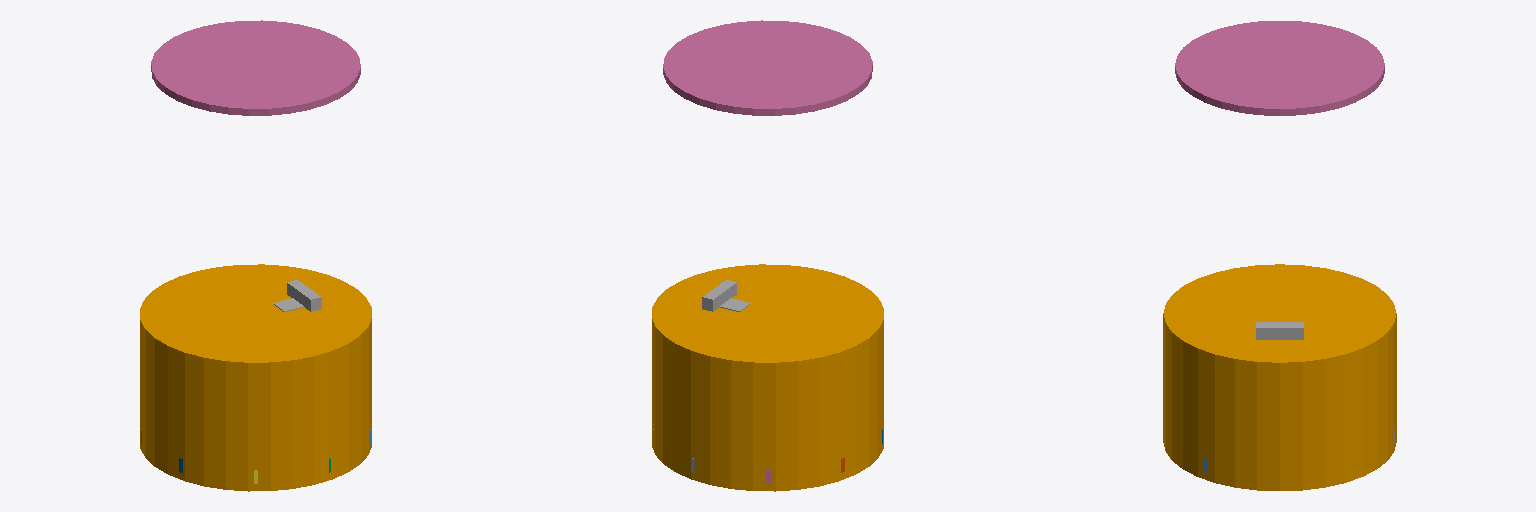
--- What the picture shows (computed from the rendered views, not written in the file) ---
The picture shows the robot from 3 angles, left to right: view 1: azimuth 30°, elevation 25°; view 2: azimuth 150°, elevation 25°; view 3: azimuth 270°, elevation 25°; orthographic projection.
Robot: [local-path]/Desktop/Robotino3.urdf — 28 links, 27 joints (3 continuous, 24 fixed); root link base_link; default pose: every joint at zero.
Visible links, largest first — view 1: base_link, Platform for Robotino 3, Webcam for Robotino 3_solid; view 2: base_link, Platform for Robotino 3, Webcam for Robotino 3_solid; view 3: base_link, Platform for Robotino 3, Webcam for Robotino 3_solid.
Link boxes in pixels (<box>): base_link: <box>140,264,371,491</box>; Platform for Robotino 3: <box>151,20,360,115</box>; Webcam for Robotino 3_solid: <box>273,280,321,311</box>; base_link: <box>652,264,883,491</box>; Platform for Robotino 3: <box>663,20,872,115</box>; Webcam for Robotino 3_solid: <box>702,280,750,311</box>; base_link: <box>1163,264,1396,490</box>; Platform for Robotino 3: <box>1175,21,1384,115</box>; Webcam for Robotino 3_solid: <box>1256,322,1303,339</box>.
Bounding box of the posed robot: 0.4532 × 0.4532 × 0.8308 m (x, y, z).
Geometry: primitives only (box / cylinder / sphere), no mesh files.

The robot description file, URDF, robot "[local-path]/Desktop/Robotino3.urdf":
<?xml version="1.0"?>
<robot name="[local-path]/Desktop/Robotino3.urdf" xmlns:xacro="http://ros.org/wiki/xacro">
  <link name="base_link">
    <visual>
      <origin xyz="0 0 0.153" rpy="0 0 0"/>
      <geometry>
        <cylinder radius="0.2266" length="0.276"/>
      </geometry>
    </visual>
    <collision>
      <origin xyz="0 0 0.153" rpy="0 0 0"/>
      <geometry>
        <cylinder radius="0.2266" length="0.276"/>
      </geometry>
    </collision>
  </link>
  <link name="cap screw(6)">
    <visual>
      <origin xyz="0.005 0 0" rpy="3.141593 1.570793 3.141593"/>
      <geometry>
        <cylinder radius="0.0018" length="0.01"/>
      </geometry>
    </visual>
    <collision>
      <origin xyz="0.005 0 0" rpy="3.141593 1.570793 3.141593"/>
      <geometry>
        <cylinder radius="0.0018" length="0.01"/>
      </geometry>
    </collision>
    <visual>
      <origin xyz="-0.0018 0 0" rpy="3.141593 1.570793 3.141593"/>
      <geometry>
        <cylinder radius="0.003" length="0.0036"/>
      </geometry>
    </visual>
    <collision>
      <origin xyz="-0.0018 0 0" rpy="3.141593 1.570793 3.141593"/>
      <geometry>
        <cylinder radius="0.003" length="0.0036"/>
      </geometry>
    </collision>
  </link>
  <joint name="base_link_cap screw(6)_joint" type="fixed">
    <parent link="base_link"/>
    <child link="cap screw(6)"/>
    <origin xyz="0.1097 0.189 0.092" rpy="0.000008 -0.000002 -2.094393"/>
  </joint>
  <link name="cap screw(5)">
    <visual>
      <origin xyz="0.005 0 0" rpy="3.141593 1.570793 3.141593"/>
      <geometry>
        <cylinder radius="0.0018" length="0.01"/>
      </geometry>
    </visual>
    <collision>
      <origin xyz="0.005 0 0" rpy="3.141593 1.570793 3.141593"/>
      <geometry>
        <cylinder radius="0.0018" length="0.01"/>
      </geometry>
    </collision>
    <visual>
      <origin xyz="-0.0018 0 0" rpy="3.141593 1.570793 3.141593"/>
      <geometry>
        <cylinder radius="0.003" length="0.0036"/>
      </geometry>
    </visual>
    <collision>
      <origin xyz="-0.0018 0 0" rpy="3.141593 1.570793 3.141593"/>
      <geometry>
        <cylinder radius="0.003" length="0.0036"/>
      </geometry>
    </collision>
  </link>
  <joint name="base_link_cap screw(5)_joint" type="fixed">
    <parent link="base_link"/>
    <child link="cap screw(5)"/>
    <origin xyz="0.1097 -0.189 0.092" rpy="0.000002 0.000003 2.094393"/>
  </joint>
  <link name="cap screw(4)">
    <visual>
      <origin xyz="0.005 0 0" rpy="3.141593 1.570793 3.141593"/>
      <geometry>
        <cylinder radius="0.0018" length="0.01"/>
      </geometry>
    </visual>
    <collision>
      <origin xyz="0.005 0 0" rpy="3.141593 1.570793 3.141593"/>
      <geometry>
        <cylinder radius="0.0018" length="0.01"/>
      </geometry>
    </collision>
    <visual>
      <origin xyz="-0.0018 0 0" rpy="3.141593 1.570793 3.141593"/>
      <geometry>
        <cylinder radius="0.003" length="0.0036"/>
      </geometry>
    </visual>
    <collision>
      <origin xyz="-0.0018 0 0" rpy="3.141593 1.570793 3.141593"/>
      <geometry>
        <cylinder radius="0.003" length="0.0036"/>
      </geometry>
    </collision>
  </link>
  <joint name="base_link_cap screw(4)_joint" type="fixed">
    <parent link="base_link"/>
    <child link="cap screw(4)"/>
    <origin xyz="-0.0372 -0.207 0.213" rpy="0 0 1.570796"/>
  </joint>
  <link name="cap screw(3)">
    <visual>
      <origin xyz="0.005 0 0" rpy="3.141593 1.570793 3.141593"/>
      <geometry>
        <cylinder radius="0.0018" length="0.01"/>
      </geometry>
    </visual>
    <collision>
      <origin xyz="0.005 0 0" rpy="3.141593 1.570793 3.141593"/>
      <geometry>
        <cylinder radius="0.0018" length="0.01"/>
      </geometry>
    </collision>
    <visual>
      <origin xyz="-0.0018 0 0" rpy="3.141593 1.570793 3.141593"/>
      <geometry>
        <cylinder radius="0.003" length="0.0036"/>
      </geometry>
    </visual>
    <collision>
      <origin xyz="-0.0018 0 0" rpy="3.141593 1.570793 3.141593"/>
      <geometry>
        <cylinder radius="0.003" length="0.0036"/>
      </geometry>
    </collision>
  </link>
  <joint name="base_link_cap screw(3)_joint" type="fixed">
    <parent link="base_link"/>
    <child link="cap screw(3)"/>
    <origin xyz="-0.0372 0.207 0.213" rpy="3.141593 0.000008 -1.570796"/>
  </joint>
  <link name="cap screw(2)">
    <visual>
      <origin xyz="0.005 0 0" rpy="3.141593 1.570793 3.141593"/>
      <geometry>
        <cylinder radius="0.0018" length="0.01"/>
      </geometry>
    </visual>
    <collision>
      <origin xyz="0.005 0 0" rpy="3.141593 1.570793 3.141593"/>
      <geometry>
        <cylinder radius="0.0018" length="0.01"/>
      </geometry>
    </collision>
    <visual>
      <origin xyz="-0.0018 0 0" rpy="3.141593 1.570793 3.141593"/>
      <geometry>
        <cylinder radius="0.003" length="0.0036"/>
      </geometry>
    </visual>
    <collision>
      <origin xyz="-0.0018 0 0" rpy="3.141593 1.570793 3.141593"/>
      <geometry>
        <cylinder radius="0.003" length="0.0036"/>
      </geometry>
    </collision>
  </link>
  <joint name="base_link_cap screw(2)_joint" type="fixed">
    <parent link="base_link"/>
    <child link="cap screw(2)"/>
    <origin xyz="-0.2183 0 0.092" rpy="1.570796 0.000003 -0.000003"/>
  </joint>
  <link name="cap screw(1)">
    <visual>
      <origin xyz="0.005 0 0" rpy="3.141593 1.570793 3.141593"/>
      <geometry>
        <cylinder radius="0.0018" length="0.01"/>
      </geometry>
    </visual>
    <collision>
      <origin xyz="0.005 0 0" rpy="3.141593 1.570793 3.141593"/>
      <geometry>
        <cylinder radius="0.0018" length="0.01"/>
      </geometry>
    </collision>
    <visual>
      <origin xyz="-0.0018 0 0" rpy="3.141593 1.570793 3.141593"/>
      <geometry>
        <cylinder radius="0.003" length="0.0036"/>
      </geometry>
    </visual>
    <collision>
      <origin xyz="-0.0018 0 0" rpy="3.141593 1.570793 3.141593"/>
      <geometry>
        <cylinder radius="0.003" length="0.0036"/>
      </geometry>
    </collision>
  </link>
  <joint name="base_link_cap screw(1)_joint" type="fixed">
    <parent link="base_link"/>
    <child link="cap screw(1)"/>
    <origin xyz="-0.194 0.08 0.213" rpy="-1.662276 -0.01634 -0.353273"/>
  </joint>
  <link name="cap screw">
    <visual>
      <origin xyz="0.005 0 0" rpy="3.141593 1.570793 3.141593"/>
      <geometry>
        <cylinder radius="0.0018" length="0.01"/>
      </geometry>
    </visual>
    <collision>
      <origin xyz="0.005 0 0" rpy="3.141593 1.570793 3.141593"/>
      <geometry>
        <cylinder radius="0.0018" length="0.01"/>
      </geometry>
    </collision>
    <visual>
      <origin xyz="-0.0018 0 0" rpy="3.141593 1.570793 3.141593"/>
      <geometry>
        <cylinder radius="0.003" length="0.0036"/>
      </geometry>
    </visual>
    <collision>
      <origin xyz="-0.0018 0 0" rpy="3.141593 1.570793 3.141593"/>
      <geometry>
        <cylinder radius="0.003" length="0.0036"/>
      </geometry>
    </collision>
  </link>
  <joint name="base_link_cap screw_joint" type="fixed">
    <parent link="base_link"/>
    <child link="cap screw"/>
    <origin xyz="-0.194 -0.08 0.213" rpy="-1.479317 -0.01634 0.35328"/>
  </joint>
  <link name="touch sensor">
  </link>
  <joint name="base_link_touch sensor_joint" type="fixed">
    <parent link="base_link"/>
    <child link="touch sensor"/>
    <origin xyz="0 0 0.035" rpy="0 0 1.570796"/>
  </joint>
  <link name="ir9">
    <visual>
      <origin xyz="-0.0052 -0.0102 0" rpy="0 0 0"/>
      <geometry>
        <box size="0.01 0.03 0.0087"/>
      </geometry>
    </visual>
    <collision>
      <origin xyz="-0.0052 -0.0102 0" rpy="0 0 0"/>
      <geometry>
        <box size="0.01 0.03 0.0087"/>
      </geometry>
    </collision>
    <visual>
      <origin xyz="-0.0109 -0.0102 0" rpy="0 0 0"/>
      <geometry>
        <box size="0.0094 0.03 0.0131"/>
      </geometry>
    </visual>
    <collision>
      <origin xyz="-0.0109 -0.0102 0" rpy="0 0 0"/>
      <geometry>
        <box size="0.0094 0.03 0.0131"/>
      </geometry>
    </collision>
    <visual>
      <origin xyz="-0.0144 -0.0102 0" rpy="0 0 0"/>
      <geometry>
        <box size="0.0023 0.0445 0.0077"/>
      </geometry>
    </visual>
    <collision>
      <origin xyz="-0.0144 -0.0102 0" rpy="0 0 0"/>
      <geometry>
        <box size="0.0023 0.0445 0.0077"/>
      </geometry>
    </collision>
  </link>
  <joint name="base_link_ir9_joint" type="fixed">
    <parent link="base_link"/>
    <child link="ir9"/>
    <origin xyz="0.1735 -0.1455 0.0566" rpy="1.570796 0 -0.639973"/>
  </joint>
  <link name="ir8">
    <visual>
      <origin xyz="-0.0052 -0.0102 0" rpy="0 0 0"/>
      <geometry>
        <box size="0.01 0.03 0.0087"/>
      </geometry>
    </visual>
    <collision>
      <origin xyz="-0.0052 -0.0102 0" rpy="0 0 0"/>
      <geometry>
        <box size="0.01 0.03 0.0087"/>
      </geometry>
    </collision>
    <visual>
      <origin xyz="-0.0109 -0.0102 0" rpy="0 0 0"/>
      <geometry>
        <box size="0.0094 0.03 0.0131"/>
      </geometry>
    </visual>
    <collision>
      <origin xyz="-0.0109 -0.0102 0" rpy="0 0 0"/>
      <geometry>
        <box size="0.0094 0.03 0.0131"/>
      </geometry>
    </collision>
    <visual>
      <origin xyz="-0.0144 -0.0102 0" rpy="0 0 0"/>
      <geometry>
        <box size="0.0023 0.0445 0.0077"/>
      </geometry>
    </visual>
    <collision>
      <origin xyz="-0.0144 -0.0102 0" rpy="0 0 0"/>
      <geometry>
        <box size="0.0023 0.0445 0.0077"/>
      </geometry>
    </collision>
  </link>
  <joint name="base_link_ir8_joint" type="fixed">
    <parent link="base_link"/>
    <child link="ir8"/>
    <origin xyz="0.0394 -0.2229 0.0566" rpy="1.570796 0 -1.3381"/>
  </joint>
  <link name="ir7">
    <visual>
      <origin xyz="-0.0052 -0.0102 0" rpy="0 0 0"/>
      <geometry>
        <box size="0.01 0.03 0.0087"/>
      </geometry>
    </visual>
    <collision>
      <origin xyz="-0.0052 -0.0102 0" rpy="0 0 0"/>
      <geometry>
        <box size="0.01 0.03 0.0087"/>
      </geometry>
    </collision>
    <visual>
      <origin xyz="-0.0109 -0.0102 0" rpy="0 0 0"/>
      <geometry>
        <box size="0.0094 0.03 0.0131"/>
      </geometry>
    </visual>
    <collision>
      <origin xyz="-0.0109 -0.0102 0" rpy="0 0 0"/>
      <geometry>
        <box size="0.0094 0.03 0.0131"/>
      </geometry>
    </collision>
    <visual>
      <origin xyz="-0.0144 -0.0102 0" rpy="0 0 0"/>
      <geometry>
        <box size="0.0023 0.0445 0.0077"/>
      </geometry>
    </visual>
    <collision>
      <origin xyz="-0.0144 -0.0102 0" rpy="0 0 0"/>
      <geometry>
        <box size="0.0023 0.0445 0.0077"/>
      </geometry>
    </collision>
  </link>
  <joint name="base_link_ir7_joint" type="fixed">
    <parent link="base_link"/>
    <child link="ir7"/>
    <origin xyz="-0.1133 -0.196 0.0566" rpy="1.570797 -0.000001 -2.036229"/>
  </joint>
  <link name="ir6">
    <visual>
      <origin xyz="-0.0052 -0.0102 0" rpy="0 0 0"/>
      <geometry>
        <box size="0.01 0.03 0.0087"/>
      </geometry>
    </visual>
    <collision>
      <origin xyz="-0.0052 -0.0102 0" rpy="0 0 0"/>
      <geometry>
        <box size="0.01 0.03 0.0087"/>
      </geometry>
    </collision>
    <visual>
      <origin xyz="-0.0109 -0.0102 0" rpy="0 0 0"/>
      <geometry>
        <box size="0.0094 0.03 0.0131"/>
      </geometry>
    </visual>
    <collision>
      <origin xyz="-0.0109 -0.0102 0" rpy="0 0 0"/>
      <geometry>
        <box size="0.0094 0.03 0.0131"/>
      </geometry>
    </collision>
    <visual>
      <origin xyz="-0.0144 -0.0102 0" rpy="0 0 0"/>
      <geometry>
        <box size="0.0023 0.0445 0.0077"/>
      </geometry>
    </visual>
    <collision>
      <origin xyz="-0.0144 -0.0102 0" rpy="0 0 0"/>
      <geometry>
        <box size="0.0023 0.0445 0.0077"/>
      </geometry>
    </collision>
  </link>
  <joint name="base_link_ir6_joint" type="fixed">
    <parent link="base_link"/>
    <child link="ir6"/>
    <origin xyz="-0.2133 -0.0772 0.0566" rpy="1.570796 0 -2.734369"/>
  </joint>
  <link name="ir5">
    <visual>
      <origin xyz="-0.0052 -0.0102 0" rpy="0 0 0"/>
      <geometry>
        <box size="0.01 0.03 0.0087"/>
      </geometry>
    </visual>
    <collision>
      <origin xyz="-0.0052 -0.0102 0" rpy="0 0 0"/>
      <geometry>
        <box size="0.01 0.03 0.0087"/>
      </geometry>
    </collision>
    <visual>
      <origin xyz="-0.0109 -0.0102 0" rpy="0 0 0"/>
      <geometry>
        <box size="0.0094 0.03 0.0131"/>
      </geometry>
    </visual>
    <collision>
      <origin xyz="-0.0109 -0.0102 0" rpy="0 0 0"/>
      <geometry>
        <box size="0.0094 0.03 0.0131"/>
      </geometry>
    </collision>
    <visual>
      <origin xyz="-0.0144 -0.0102 0" rpy="0 0 0"/>
      <geometry>
        <box size="0.0023 0.0445 0.0077"/>
      </geometry>
    </visual>
    <collision>
      <origin xyz="-0.0144 -0.0102 0" rpy="0 0 0"/>
      <geometry>
        <box size="0.0023 0.0445 0.0077"/>
      </geometry>
    </collision>
  </link>
  <joint name="base_link_ir5_joint" type="fixed">
    <parent link="base_link"/>
    <child link="ir5"/>
    <origin xyz="-0.2131 0.0777 0.0566" rpy="1.570796 0 2.850685"/>
  </joint>
  <link name="ir4">
    <visual>
      <origin xyz="-0.0052 -0.0102 0" rpy="0 0 0"/>
      <geometry>
        <box size="0.01 0.03 0.0087"/>
      </geometry>
    </visual>
    <collision>
      <origin xyz="-0.0052 -0.0102 0" rpy="0 0 0"/>
      <geometry>
        <box size="0.01 0.03 0.0087"/>
      </geometry>
    </collision>
    <visual>
      <origin xyz="-0.0109 -0.0102 0" rpy="0 0 0"/>
      <geometry>
        <box size="0.0094 0.03 0.0131"/>
      </geometry>
    </visual>
    <collision>
      <origin xyz="-0.0109 -0.0102 0" rpy="0 0 0"/>
      <geometry>
        <box size="0.0094 0.03 0.0131"/>
      </geometry>
    </collision>
    <visual>
      <origin xyz="-0.0144 -0.0102 0" rpy="0 0 0"/>
      <geometry>
        <box size="0.0023 0.0445 0.0077"/>
      </geometry>
    </visual>
    <collision>
      <origin xyz="-0.0144 -0.0102 0" rpy="0 0 0"/>
      <geometry>
        <box size="0.0023 0.0445 0.0077"/>
      </geometry>
    </collision>
  </link>
  <joint name="base_link_ir4_joint" type="fixed">
    <parent link="base_link"/>
    <child link="ir4"/>
    <origin xyz="-0.114 0.1963 0.0566" rpy="1.570796 0 2.152557"/>
  </joint>
  <link name="ir3">
    <visual>
      <origin xyz="-0.0052 -0.0102 0" rpy="0 0 0"/>
      <geometry>
        <box size="0.01 0.03 0.0087"/>
      </geometry>
    </visual>
    <collision>
      <origin xyz="-0.0052 -0.0102 0" rpy="0 0 0"/>
      <geometry>
        <box size="0.01 0.03 0.0087"/>
      </geometry>
    </collision>
    <visual>
      <origin xyz="-0.0109 -0.0102 0" rpy="0 0 0"/>
      <geometry>
        <box size="0.0094 0.03 0.0131"/>
      </geometry>
    </visual>
    <collision>
      <origin xyz="-0.0109 -0.0102 0" rpy="0 0 0"/>
      <geometry>
        <box size="0.0094 0.03 0.0131"/>
      </geometry>
    </collision>
    <visual>
      <origin xyz="-0.0144 -0.0102 0" rpy="0 0 0"/>
      <geometry>
        <box size="0.0023 0.0445 0.0077"/>
      </geometry>
    </visual>
    <collision>
      <origin xyz="-0.0144 -0.0102 0" rpy="0 0 0"/>
      <geometry>
        <box size="0.0023 0.0445 0.0077"/>
      </geometry>
    </collision>
  </link>
  <joint name="base_link_ir3_joint" type="fixed">
    <parent link="base_link"/>
    <child link="ir3"/>
    <origin xyz="0.0394 0.223 0.0566" rpy="1.570796 0 1.454421"/>
  </joint>
  <link name="ir2">
    <visual>
      <origin xyz="-0.0052 -0.0102 0" rpy="0 0 0"/>
      <geometry>
        <box size="0.01 0.03 0.0087"/>
      </geometry>
    </visual>
    <collision>
      <origin xyz="-0.0052 -0.0102 0" rpy="0 0 0"/>
      <geometry>
        <box size="0.01 0.03 0.0087"/>
      </geometry>
    </collision>
    <visual>
      <origin xyz="-0.0109 -0.0102 0" rpy="0 0 0"/>
      <geometry>
        <box size="0.0094 0.03 0.0131"/>
      </geometry>
    </visual>
    <collision>
      <origin xyz="-0.0109 -0.0102 0" rpy="0 0 0"/>
      <geometry>
        <box size="0.0094 0.03 0.0131"/>
      </geometry>
    </collision>
    <visual>
      <origin xyz="-0.0144 -0.0102 0" rpy="0 0 0"/>
      <geometry>
        <box size="0.0023 0.0445 0.0077"/>
      </geometry>
    </visual>
    <collision>
      <origin xyz="-0.0144 -0.0102 0" rpy="0 0 0"/>
      <geometry>
        <box size="0.0023 0.0445 0.0077"/>
      </geometry>
    </collision>
  </link>
  <joint name="base_link_ir2_joint" type="fixed">
    <parent link="base_link"/>
    <child link="ir2"/>
    <origin xyz="0.1736 0.1454 0.0566" rpy="1.570797 0 0.756286"/>
  </joint>
  <link name="ir1">
    <visual>
      <origin xyz="-0.0052 -0.0102 0" rpy="0 0 0"/>
      <geometry>
        <box size="0.01 0.03 0.0087"/>
      </geometry>
    </visual>
    <collision>
      <origin xyz="-0.0052 -0.0102 0" rpy="0 0 0"/>
      <geometry>
        <box size="0.01 0.03 0.0087"/>
      </geometry>
    </collision>
    <visual>
      <origin xyz="-0.0109 -0.0102 0" rpy="0 0 0"/>
      <geometry>
        <box size="0.0094 0.03 0.0131"/>
      </geometry>
    </visual>
    <collision>
      <origin xyz="-0.0109 -0.0102 0" rpy="0 0 0"/>
      <geometry>
        <box size="0.0094 0.03 0.0131"/>
      </geometry>
    </collision>
    <visual>
      <origin xyz="-0.0144 -0.0102 0" rpy="0 0 0"/>
      <geometry>
        <box size="0.0023 0.0445 0.0077"/>
      </geometry>
    </visual>
    <collision>
      <origin xyz="-0.0144 -0.0102 0" rpy="0 0 0"/>
      <geometry>
        <box size="0.0023 0.0445 0.0077"/>
      </geometry>
    </collision>
  </link>
  <joint name="base_link_ir1_joint" type="fixed">
    <parent link="base_link"/>
    <child link="ir1"/>
    <origin xyz="0.2264 0 0.0566" rpy="1.570797 0.000001 -0.000123"/>
  </joint>
  <link name="compass">
  </link>
  <joint name="base_link_compass_joint" type="fixed">
    <parent link="base_link"/>
    <child link="compass"/>
    <origin xyz="0 0 0" rpy="0 0 1.570796"/>
  </joint>
  <link name="gyro">
  </link>
  <joint name="base_link_gyro_joint" type="fixed">
    <parent link="base_link"/>
    <child link="gyro"/>
    <origin xyz="0 0 0" rpy="0 0 1.570796"/>
  </joint>
  <link name="inertial unit">
  </link>
  <joint name="base_link_inertial unit_joint" type="fixed">
    <parent link="base_link"/>
    <child link="inertial unit"/>
    <origin xyz="0 0 0" rpy="0 0 1.570796"/>
  </joint>
  <link name="accelerometer">
  </link>
  <joint name="base_link_accelerometer_joint" type="fixed">
    <parent link="base_link"/>
    <child link="accelerometer"/>
    <origin xyz="0 0 0" rpy="0 0 1.570796"/>
  </joint>
  <link name="Platform for Robotino 3">
    <visual>
      <origin xyz="0 0 0.537" rpy="0 0 0"/>
      <geometry>
        <cylinder radius="0.204" length="0.015"/>
      </geometry>
    </visual>
    <collision>
      <origin xyz="0 0 0.537" rpy="0 0 0"/>
      <geometry>
        <cylinder radius="0.204" length="0.015"/>
      </geometry>
    </collision>
  </link>
  <joint name="base_link_Platform for Robotino 3_joint" type="fixed">
    <parent link="base_link"/>
    <child link="Platform for Robotino 3"/>
    <origin xyz="0 0 0.28" rpy="0 0 1.570796"/>
  </joint>
  <link name="Webcam for Robotino 3_solid">
    <visual>
      <origin xyz="0 -0.041 0.2195" rpy="-1.5708 0 0"/>
      <geometry>
        <cylinder radius="0.01" length="0.008"/>
      </geometry>
    </visual>
    <collision>
      <origin xyz="0 -0.041 0.2195" rpy="-1.5708 0 0"/>
      <geometry>
        <cylinder radius="0.01" length="0.008"/>
      </geometry>
    </collision>
    <visual>
      <origin xyz="0 -0.033 0.2195" rpy="-1.5708 0 0"/>
      <geometry>
        <cylinder radius="0.006" length="0.008"/>
      </geometry>
    </visual>
    <collision>
      <origin xyz="0 -0.033 0.2195" rpy="-1.5708 0 0"/>
      <geometry>
        <cylinder radius="0.006" length="0.008"/>
      </geometry>
    </collision>
    <visual>
      <origin xyz="0 -0.0232 0.2195" rpy="-1.5708 0 0"/>
      <geometry>
        <cylinder radius="0.0026" length="0.01"/>
      </geometry>
    </visual>
    <collision>
      <origin xyz="0 -0.0232 0.2195" rpy="-1.5708 0 0"/>
      <geometry>
        <cylinder radius="0.0026" length="0.01"/>
      </geometry>
    </collision>
    <visual>
      <origin xyz="0 -0.0287 0.2223" rpy="0 0 0"/>
      <geometry>
        <box size="0.021 0.002 0.022"/>
      </geometry>
    </visual>
    <collision>
      <origin xyz="0 -0.0287 0.2223" rpy="0 0 0"/>
      <geometry>
        <box size="0.021 0.002 0.022"/>
      </geometry>
    </collision>
    <visual>
      <origin xyz="0 -0.034 0.2322" rpy="0 0 0"/>
      <geometry>
        <box size="0.021 0.012 0.002"/>
      </geometry>
    </visual>
    <collision>
      <origin xyz="0 -0.034 0.2322" rpy="0 0 0"/>
      <geometry>
        <box size="0.021 0.012 0.002"/>
      </geometry>
    </collision>
    <visual>
      <origin xyz="0 -0.0392 0.2478" rpy="0 0 0"/>
      <geometry>
        <box size="0.021 0.002 0.032"/>
      </geometry>
    </visual>
    <collision>
      <origin xyz="0 -0.0392 0.2478" rpy="0 0 0"/>
      <geometry>
        <box size="0.021 0.002 0.032"/>
      </geometry>
    </collision>
    <visual>
      <origin xyz="0 -0.108 0.303" rpy="0 0 0"/>
      <geometry>
        <box size="0.093 0.0246 0.0284"/>
      </geometry>
    </visual>
    <collision>
      <origin xyz="0 -0.108 0.303" rpy="0 0 0"/>
      <geometry>
        <box size="0.093 0.0246 0.0284"/>
      </geometry>
    </collision>
    <visual>
      <origin xyz="0 -0.1057 0.282" rpy="0 0 0"/>
      <geometry>
        <box size="0.046 0.0025 0.0148"/>
      </geometry>
    </visual>
    <collision>
      <origin xyz="0 -0.1057 0.282" rpy="0 0 0"/>
      <geometry>
        <box size="0.046 0.0025 0.0148"/>
      </geometry>
    </collision>
    <visual>
      <origin xyz="0 -0.078 0.2895" rpy="0 0 0"/>
      <geometry>
        <box size="0.045 0.055 0.007"/>
      </geometry>
    </visual>
    <collision>
      <origin xyz="0 -0.078 0.2895" rpy="0 0 0"/>
      <geometry>
        <box size="0.045 0.055 0.007"/>
      </geometry>
    </collision>
    <visual>
      <origin xyz="0 -0.0454 0.2616" rpy="0 0 0"/>
      <geometry>
        <box size="0.044 0.0114 0.051"/>
      </geometry>
    </visual>
    <collision>
      <origin xyz="0 -0.0454 0.2616" rpy="0 0 0"/>
      <geometry>
        <box size="0.044 0.0114 0.051"/>
      </geometry>
    </collision>
    <visual>
      <origin xyz="0 -0.0345 0.2567" rpy="-1.5708 0 0"/>
      <geometry>
        <cylinder radius="0.015" length="0.008"/>
      </geometry>
    </visual>
    <collision>
      <origin xyz="0 -0.0345 0.2567" rpy="-1.5708 0 0"/>
      <geometry>
        <cylinder radius="0.015" length="0.008"/>
      </geometry>
    </collision>
  </link>
  <joint name="base_link_Webcam for Robotino 3_solid_joint" type="fixed">
    <parent link="base_link"/>
    <child link="Webcam for Robotino 3_solid"/>
    <origin xyz="0 0 0" rpy="0 0 1.570796"/>
  </joint>
  <link name="Webcam for Robotino 3">
  </link>
  <joint name="Webcam for Robotino 3_solid_Webcam for Robotino 3_joint" type="fixed">
    <parent link="Webcam for Robotino 3_solid"/>
    <child link="Webcam for Robotino 3"/>
    <origin xyz="0 -0.11 0.303" rpy="-1.570796 0 -3.141592"/>
  </joint>
  <joint name="wheel2_joint" type="continuous">
    <parent link="base_link"/>
    <child link="wheel2_link"/>
    <axis xyz="0 1 0"/>
    <limit effort="10" velocity="137.46"/>
    <origin xyz="0.0913 0.158136 0.05915" rpy="-3.141592 -1.117157 2.617994"/>
  </joint>
  <link name="wheel2_link">
    <visual>
      <origin xyz="-0.002651 0.000126 0.000419" rpy="-1.570796 0 0"/>
      <geometry>
        <cylinder radius="0.063" length="0.01"/>
      </geometry>
    </visual>
    <collision>
      <origin xyz="-0.002651 0.000126 0.000419" rpy="-1.570796 0 0"/>
      <geometry>
        <cylinder radius="0.063" length="0.01"/>
      </geometry>
    </collision>
  </link>
  <joint name="wheel1_joint" type="continuous">
    <parent link="base_link"/>
    <child link="wheel1_link"/>
    <axis xyz="0 1 0"/>
    <limit effort="10" velocity="137.46"/>
    <origin xyz="0.088649 -0.158011 0.059569" rpy="3.141592 1.406071 0.523599"/>
  </joint>
  <link name="wheel1_link">
    <visual>
      <origin xyz="0.002581 -0.000743 0.000142" rpy="-1.570796 0 0"/>
      <geometry>
        <cylinder radius="0.063" length="0.01"/>
      </geometry>
    </visual>
    <collision>
      <origin xyz="0.002581 -0.000743 0.000142" rpy="-1.570796 0 0"/>
      <geometry>
        <cylinder radius="0.063" length="0.01"/>
      </geometry>
    </collision>
  </link>
  <joint name="wheel0_joint" type="continuous">
    <parent link="base_link"/>
    <child link="wheel0_link"/>
    <axis xyz="0 1 0"/>
    <limit effort="10" velocity="137.46"/>
    <origin xyz="-0.180019 -0.000743 0.059292" rpy="0 0.074815 1.570796"/>
  </joint>
  <link name="wheel0_link">
    <visual>
      <origin xyz="-0.000308 0.000617 -0.002598" rpy="-1.570796 0 0"/>
      <geometry>
        <cylinder radius="0.063" length="0.01"/>
      </geometry>
    </visual>
    <collision>
      <origin xyz="-0.000308 0.000617 -0.002598" rpy="-1.570796 0 0"/>
      <geometry>
        <cylinder radius="0.063" length="0.01"/>
      </geometry>
    </collision>
  </link>
</robot>
